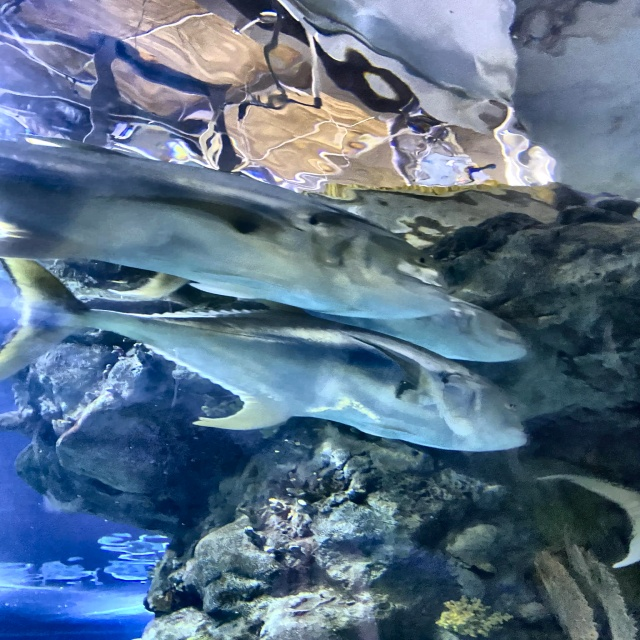fish: (0, 258, 528, 453), (0, 134, 451, 319), (305, 293, 529, 363), (537, 473, 639, 569)
